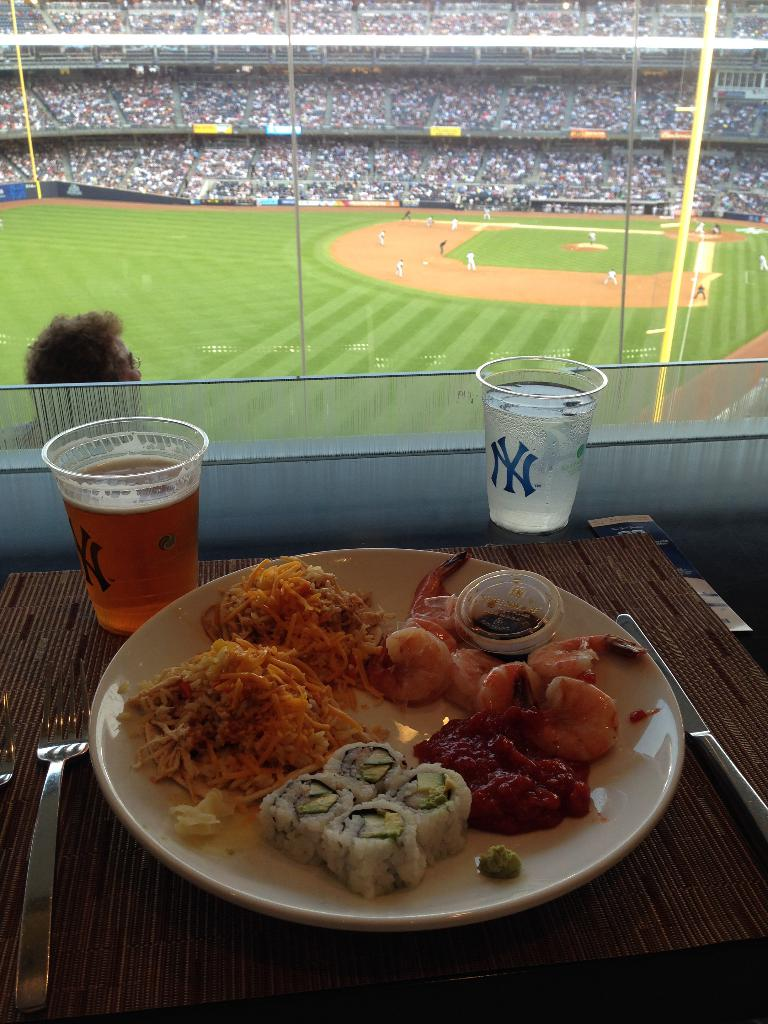Beer: (49, 417, 206, 645)
